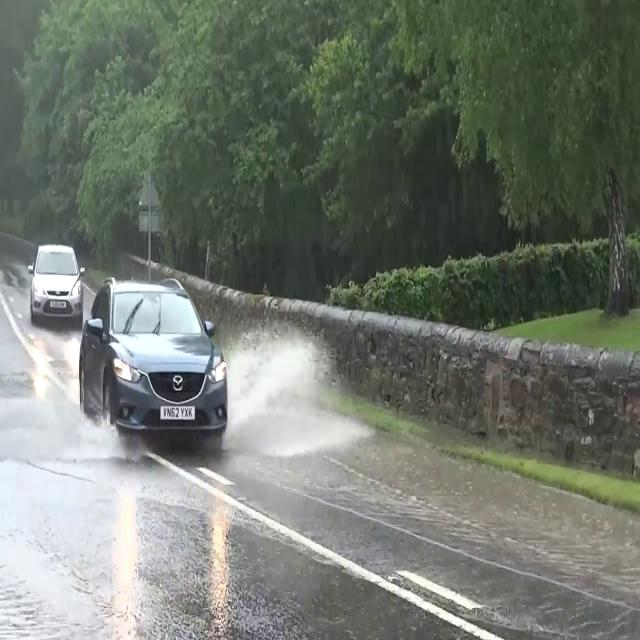license-plate-annotation: (156, 402, 198, 424)
